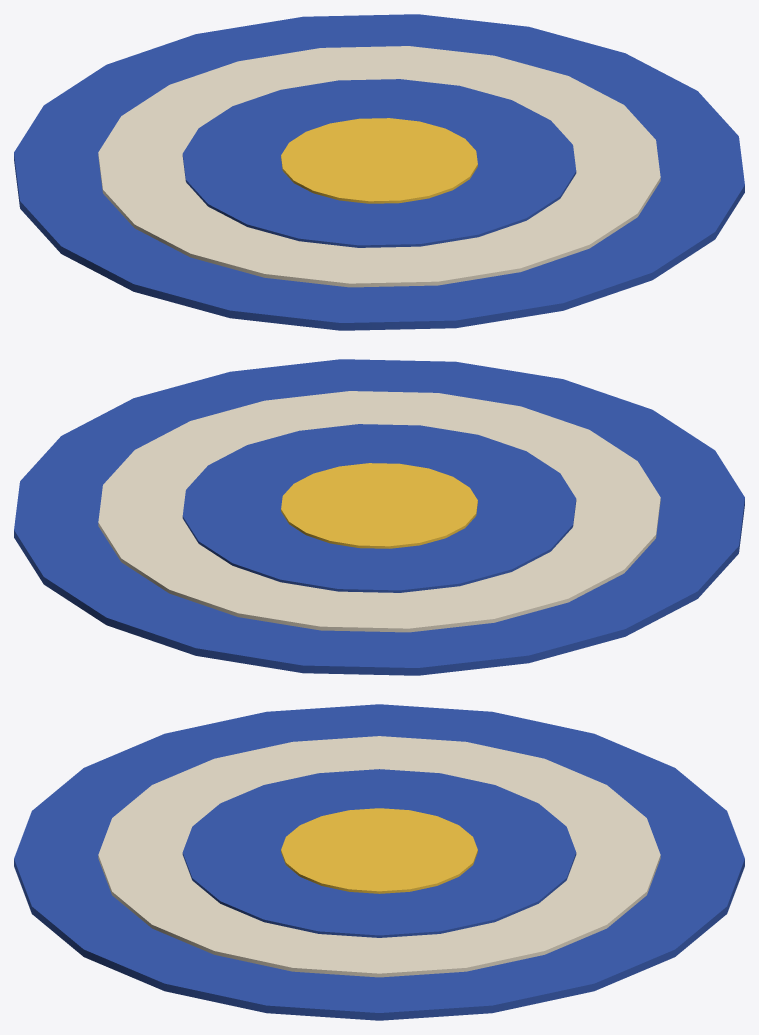
File: RoundRug.fbx
3 views of the same model, one above another, from view 1: azimuth 30°, elevation 25°; view 2: azimuth 150°, elevation 25°; view 3: azimuth 270°, elevation 25° (orthographic).
Parts seen in each view (by area): view 1: RoundRug; view 2: RoundRug; view 3: RoundRug.
Part boxes in pixels (<box>): RoundRug: <box>14,14,744,330</box>; RoundRug: <box>14,359,744,675</box>; RoundRug: <box>14,704,744,1020</box>.
Bounding box in the file's own units: 5.2 × 0.13 × 5.2.
Materials: 1 (1 with a texture image).
